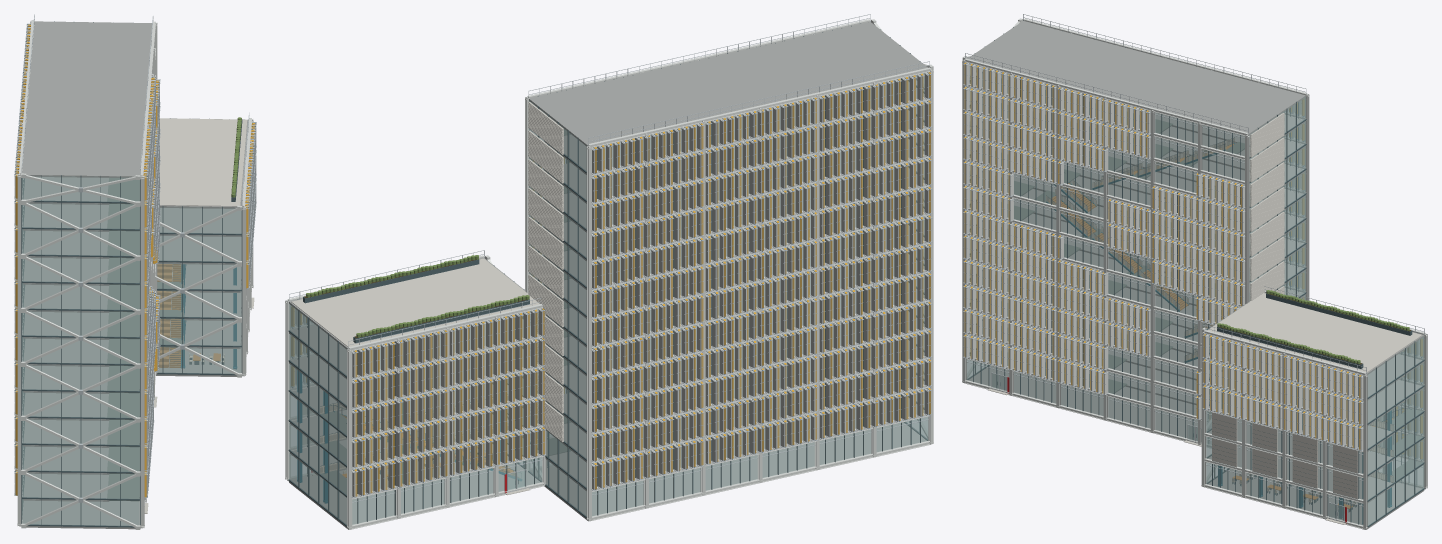
Rendered from cbg-exterior-80b68ec81575.glb.
3 views of the same model, side by side, from view 1: azimuth 30°, elevation 25°; view 2: azimuth 150°, elevation 25°; view 3: azimuth 270°, elevation 25° (orthographic). The views are drawn at different scales.
Parts seen in each view (by area): view 1: CBG.001; view 2: CBG.001; view 3: CBG.001.
Boxes of the visible parts, x1=… form: CBG.001: x1=14, y1=14, x2=256, y2=529; CBG.001: x1=285, y1=14, x2=933, y2=529; CBG.001: x1=962, y1=14, x2=1427, y2=529.
Bounding box in the file's own units: 66.1 × 53.56 × 68.49.
